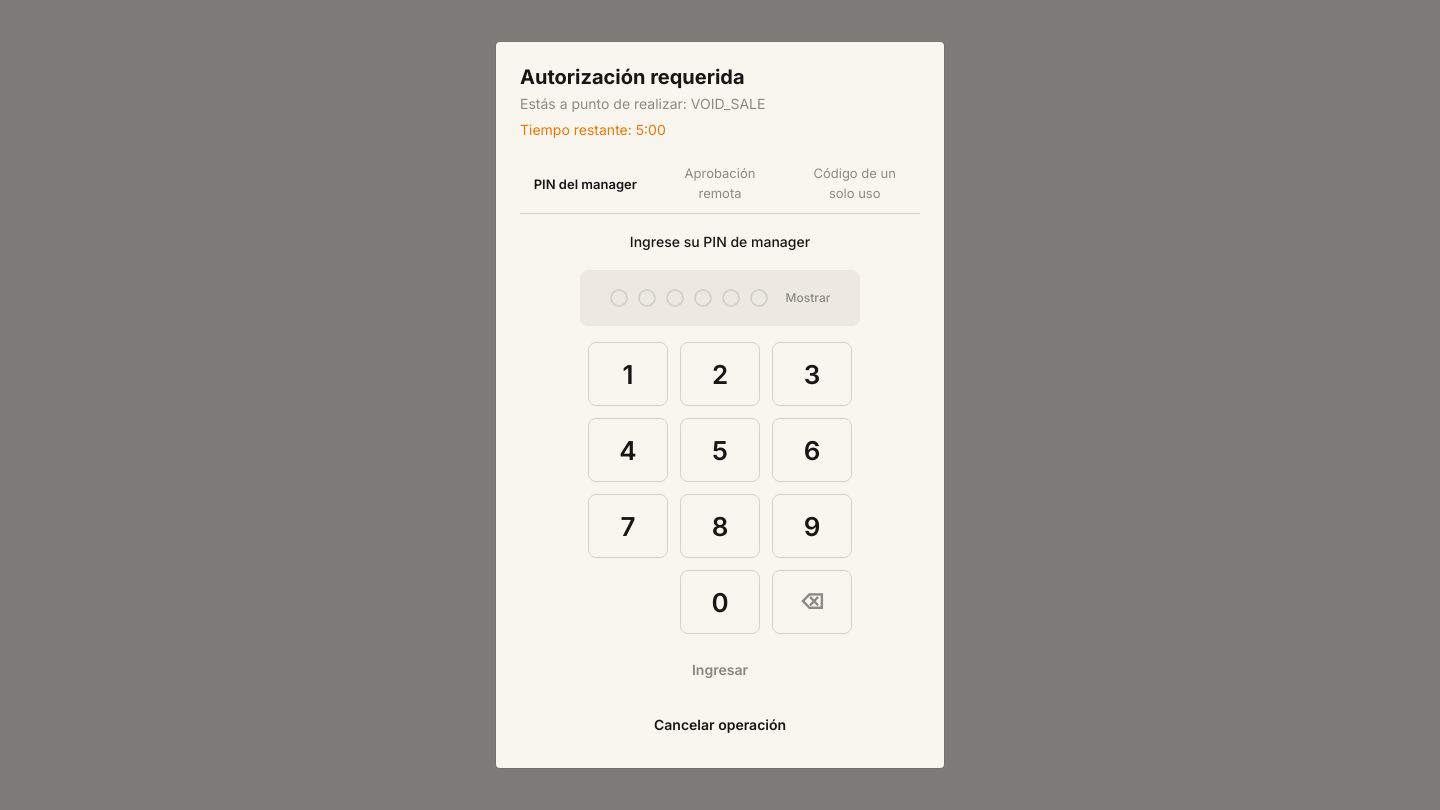
Test: StepUpModal › shows Code tab with a 6-digit input
The width and height of the screenshot is (1440, 810).
Click the button "Código de un solo uso" at x=855, y=185, box [789,156,920,213]
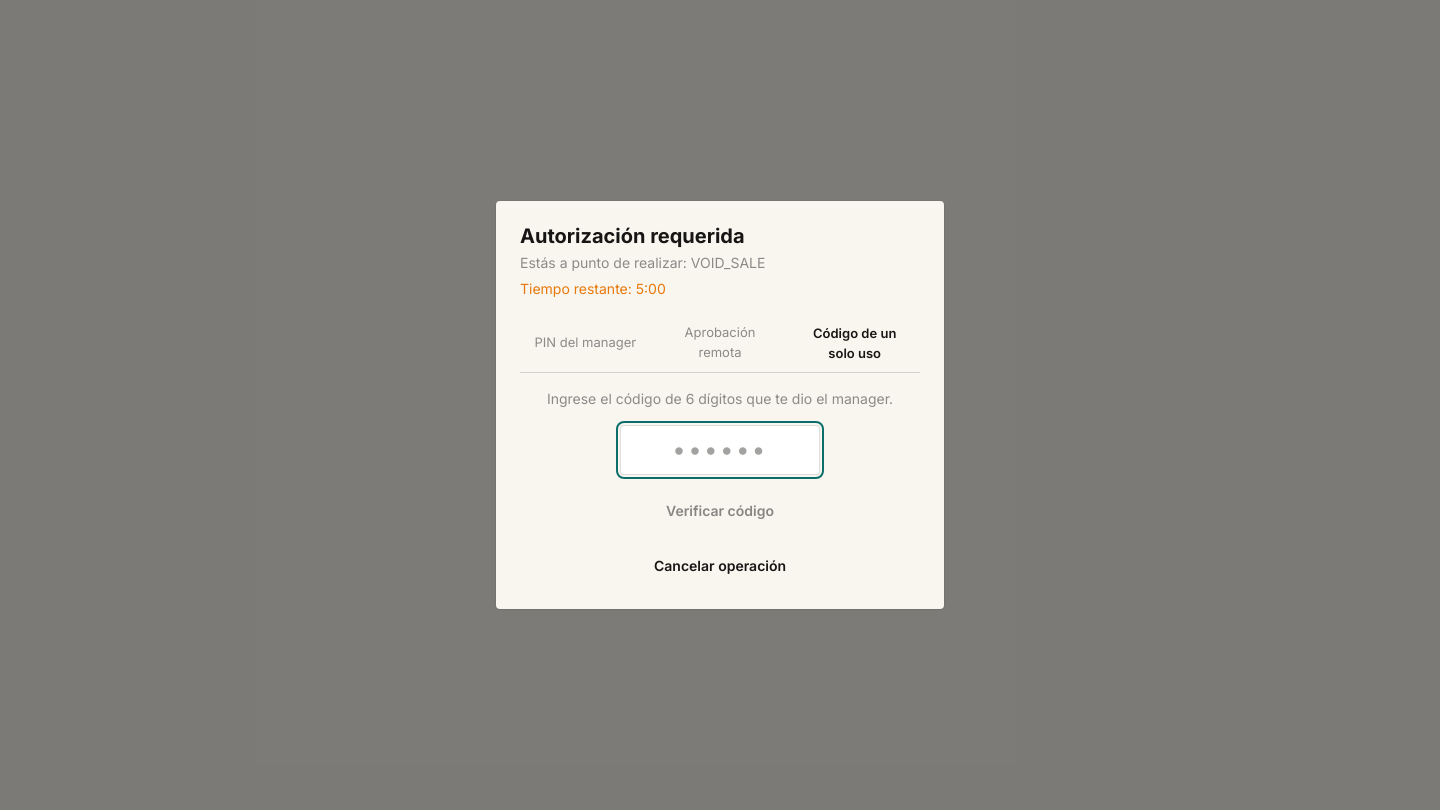
Expected: the text "Ingrese el código de 6 dígitos que te dio el manager." is shown, [547,389,893,409]
Expected: the field with placeholder "••••••" is shown, [620,425,820,475]
